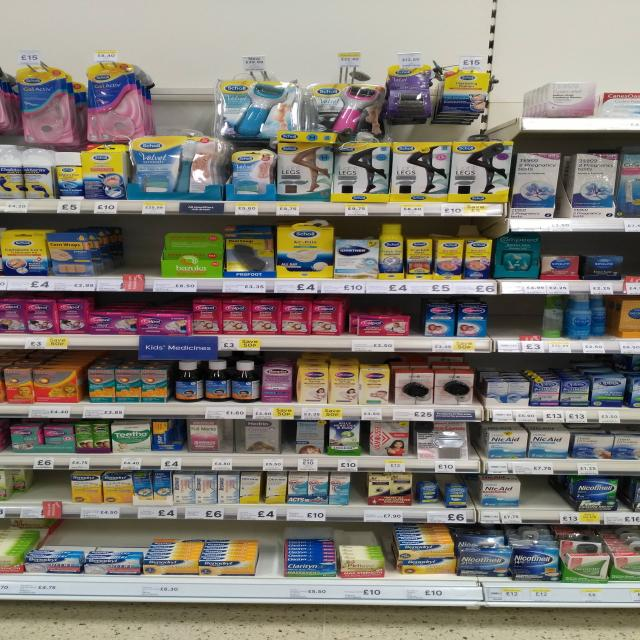void: (92, 216, 156, 280), (2, 469, 68, 502), (492, 295, 532, 339), (494, 84, 542, 120), (532, 476, 572, 512)
